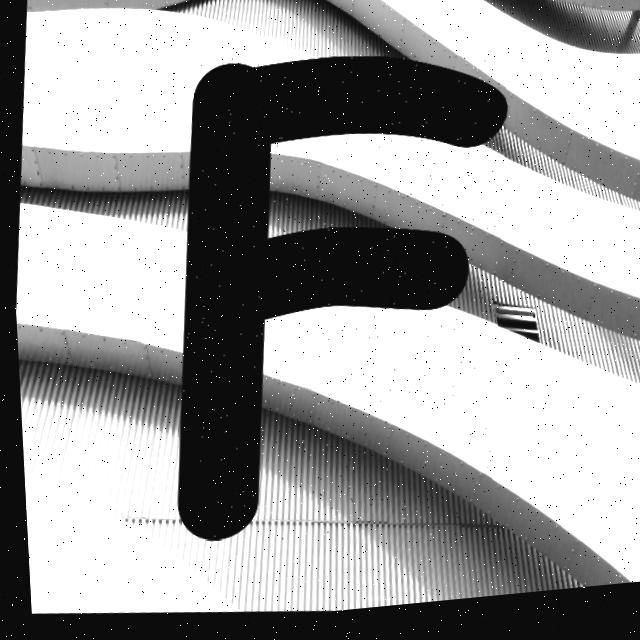F: (172, 64, 504, 543)
